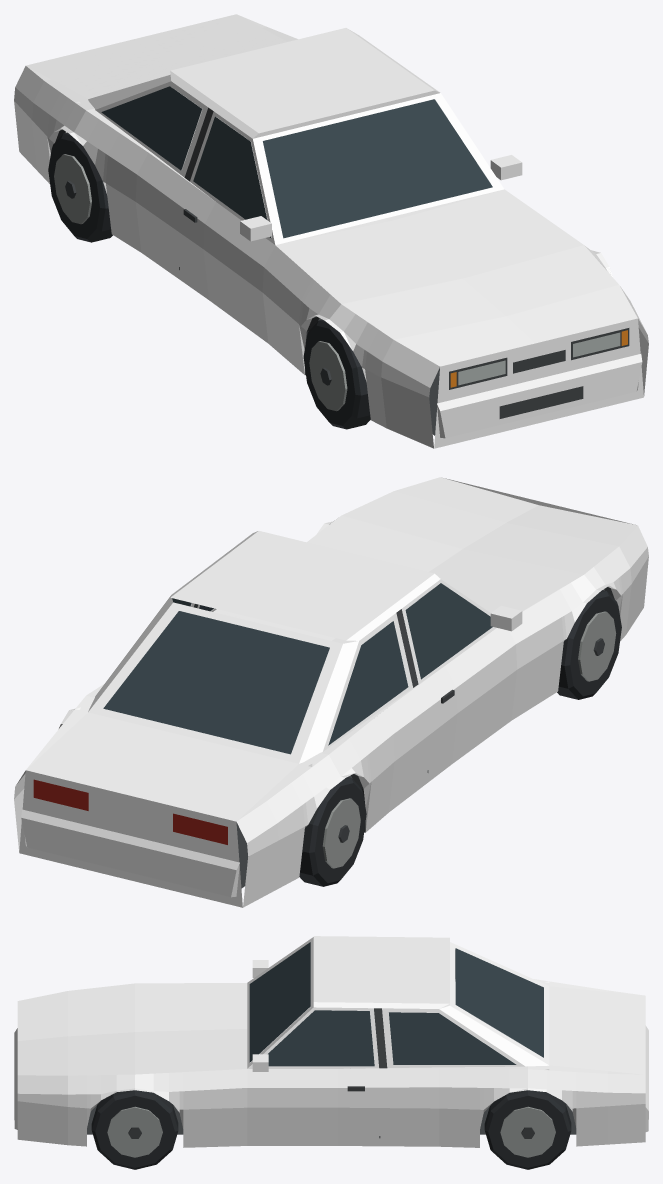
Rendered from cutler_kingfisher_ii.glb.
3 views of the same model, one above another, from view 1: azimuth 30°, elevation 25°; view 2: azimuth 150°, elevation 25°; view 3: azimuth 270°, elevation 25° (orthographic). The views are drawn at different scales.
Visible parts, largest first — view 1: cutler_kingfisher_ii; view 2: cutler_kingfisher_ii; view 3: cutler_kingfisher_ii.
Boxes of the visible parts, box(x1,y1,x2,y2) form: cutler_kingfisher_ii: box(14, 14, 648, 448); cutler_kingfisher_ii: box(14, 477, 648, 907); cutler_kingfisher_ii: box(14, 936, 648, 1169).
Size of the model in its own units: 1.82 by 1.24 by 4.7.
Materials: 8 (1 with a texture image).
